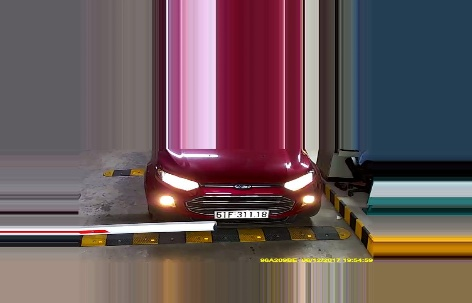plate: (215, 208, 269, 220)
